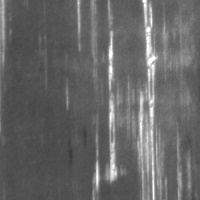scratches: (137, 1, 166, 199), (91, 28, 123, 188)
